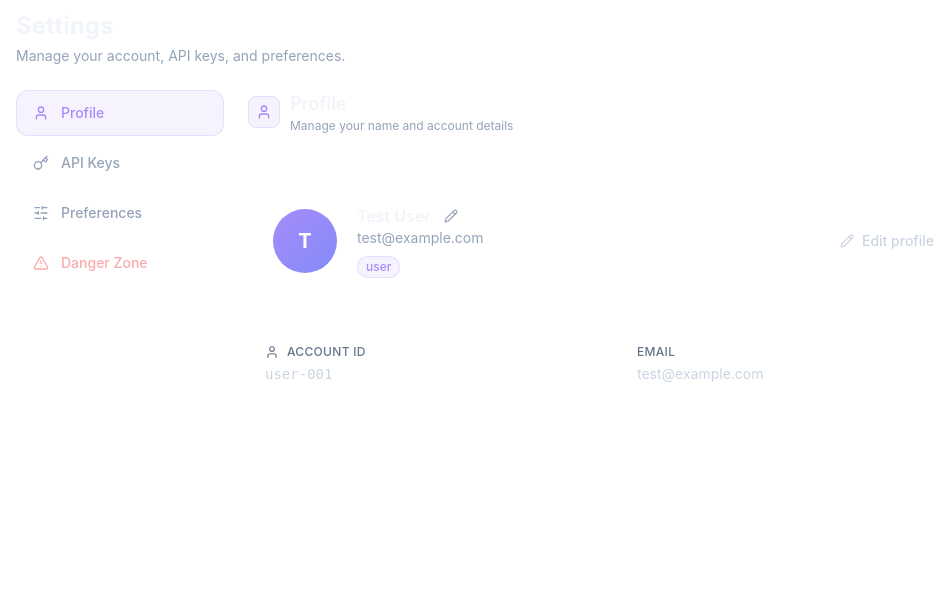
Test case: Preferences section › shows "Saved!" confirmation after saving
The image size is (951, 596).
Step 1. Click the button "Preferences" → (120,213), box [16, 190, 224, 236]
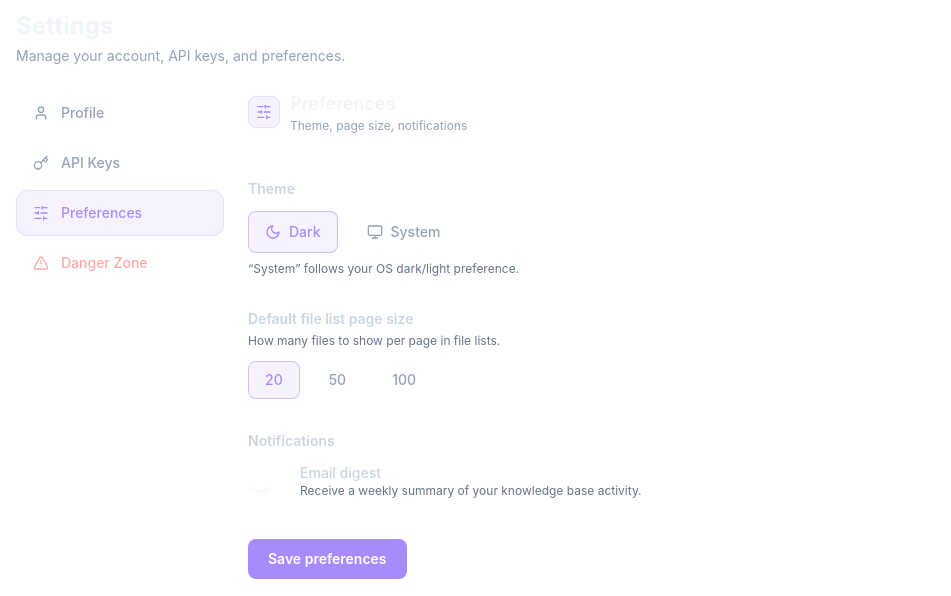
Step 2. Click the button "Save preferences" → (327,559), box [248, 539, 406, 579]
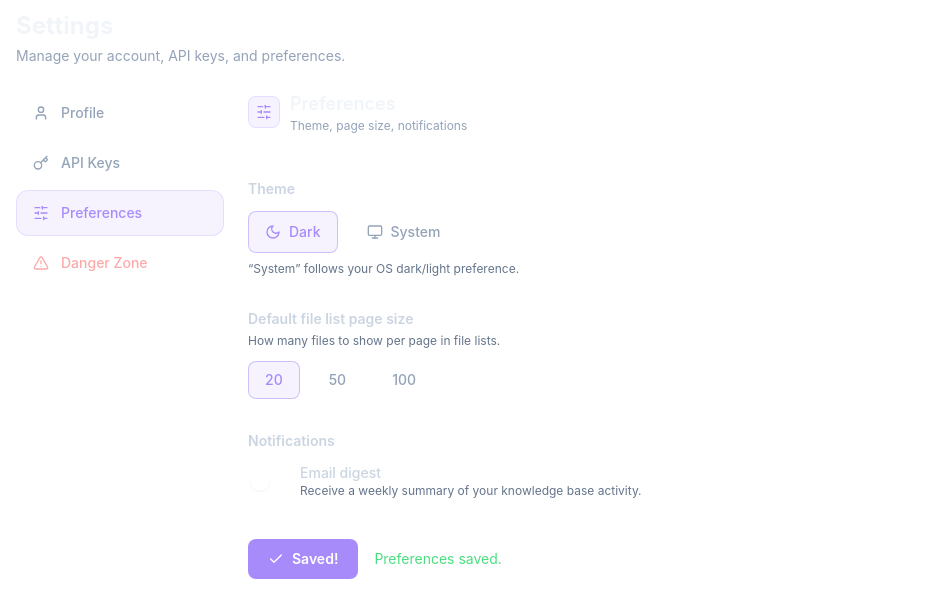
Now the message reads "Preferences saved.", box [374, 550, 502, 567]
